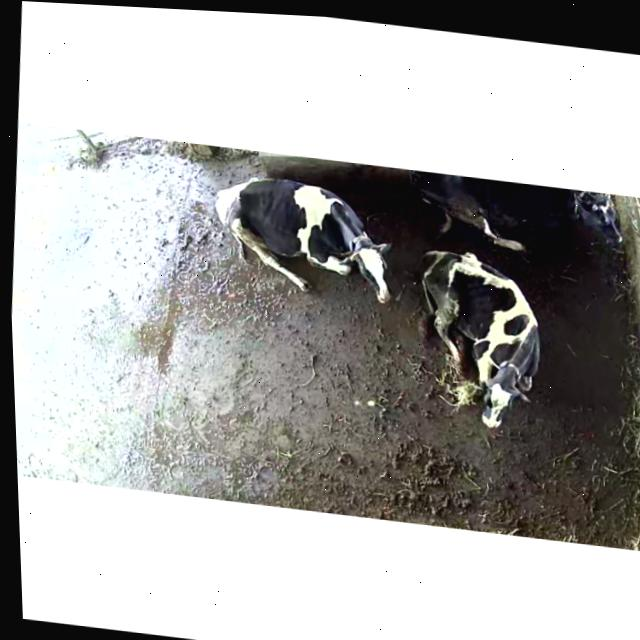lay: (384, 237, 573, 443), (174, 155, 401, 324), (410, 169, 632, 264)
